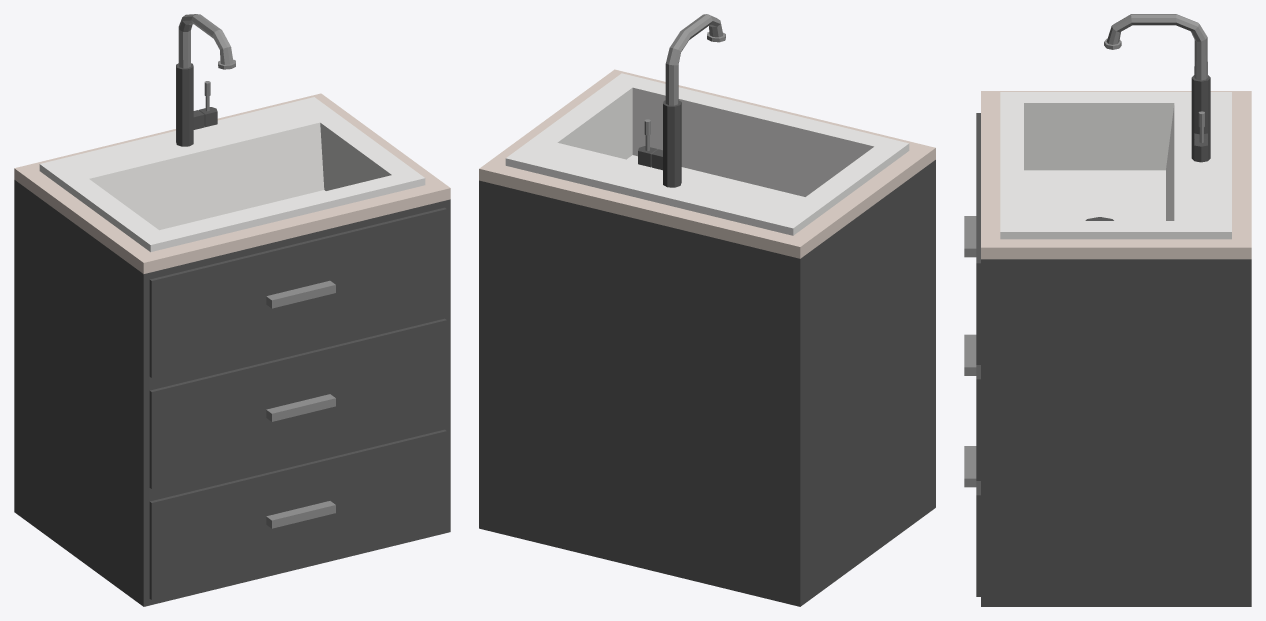
File: Washstand_2.fbx
3 views of the same model, side by side, from view 1: azimuth 30°, elevation 25°; view 2: azimuth 150°, elevation 25°; view 3: azimuth 270°, elevation 25° (orthographic). The views are drawn at different scales.
Visible parts, largest first — view 1: Washstand_2; view 2: Washstand_2; view 3: Washstand_2.
Part boxes in pixels (x1,y1,x2,y2): Washstand_2: [14, 14, 450, 606]; Washstand_2: [479, 14, 935, 606]; Washstand_2: [964, 14, 1251, 606].
Bounding box in the file's own units: 121 × 93.63 × 184.
